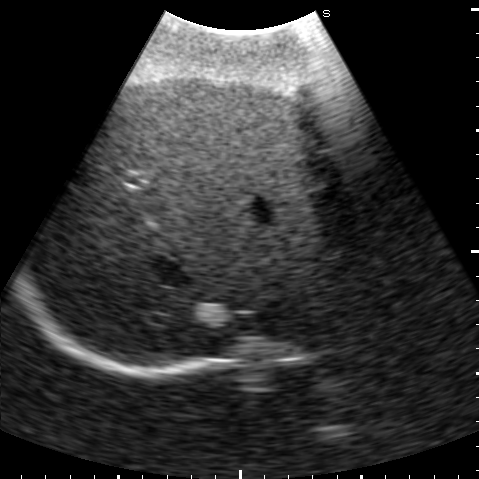S5: (98, 79, 323, 188)
S7: (32, 165, 141, 311)
S8: (83, 162, 354, 365)
Tumor: (192, 302, 230, 327)
